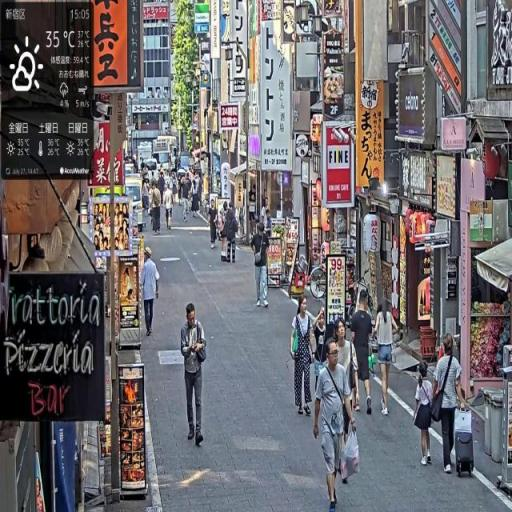person: (313, 334, 361, 512), (434, 335, 467, 476), (180, 301, 208, 448), (291, 293, 318, 419), (350, 293, 376, 416), (373, 297, 399, 419), (334, 319, 361, 417), (415, 361, 437, 467), (251, 217, 273, 308), (141, 248, 162, 340), (312, 307, 333, 397), (151, 181, 164, 237), (226, 211, 239, 263), (164, 182, 175, 232), (208, 200, 218, 250), (181, 178, 191, 222), (191, 180, 200, 218)
